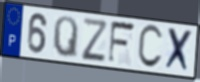6: (26, 12, 49, 55)
C: (136, 23, 164, 71)
F: (106, 20, 137, 66)
Q: (52, 15, 80, 61)
X: (163, 26, 194, 75)
Z: (81, 16, 108, 62)
